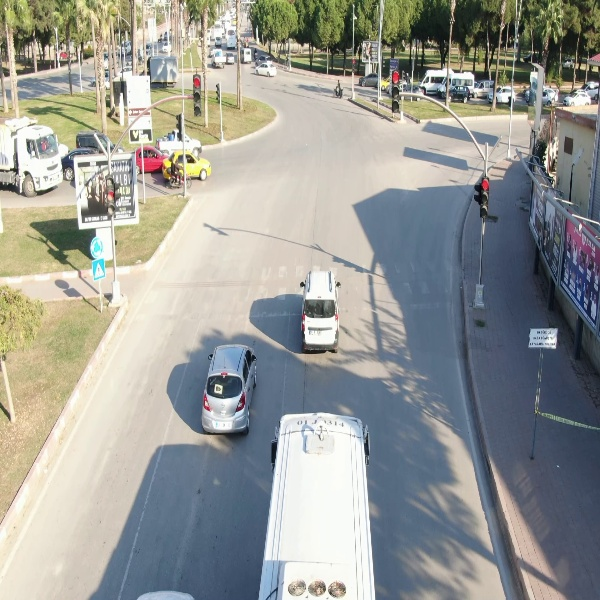car: (198, 343, 262, 437), (297, 267, 342, 353), (444, 84, 475, 106), (488, 86, 517, 108), (563, 88, 593, 107), (255, 59, 277, 79), (239, 47, 254, 68)
